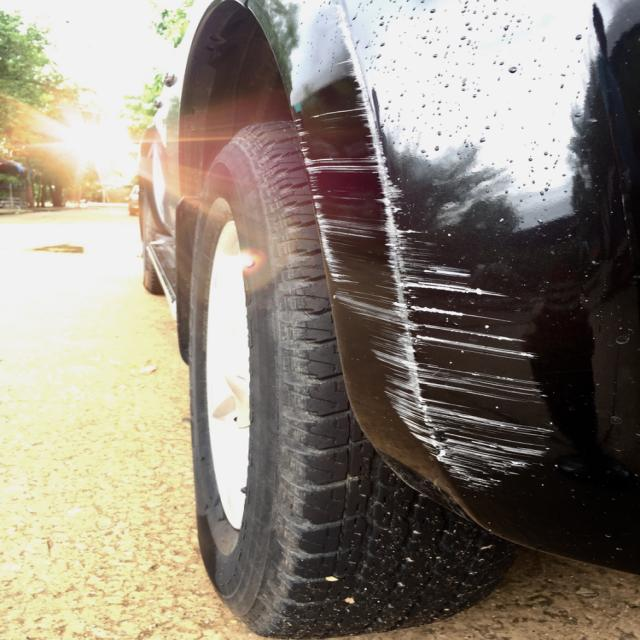scratch: (296, 0, 555, 493)
